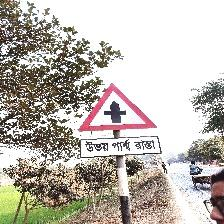Crossroad: (77, 84, 162, 156)
